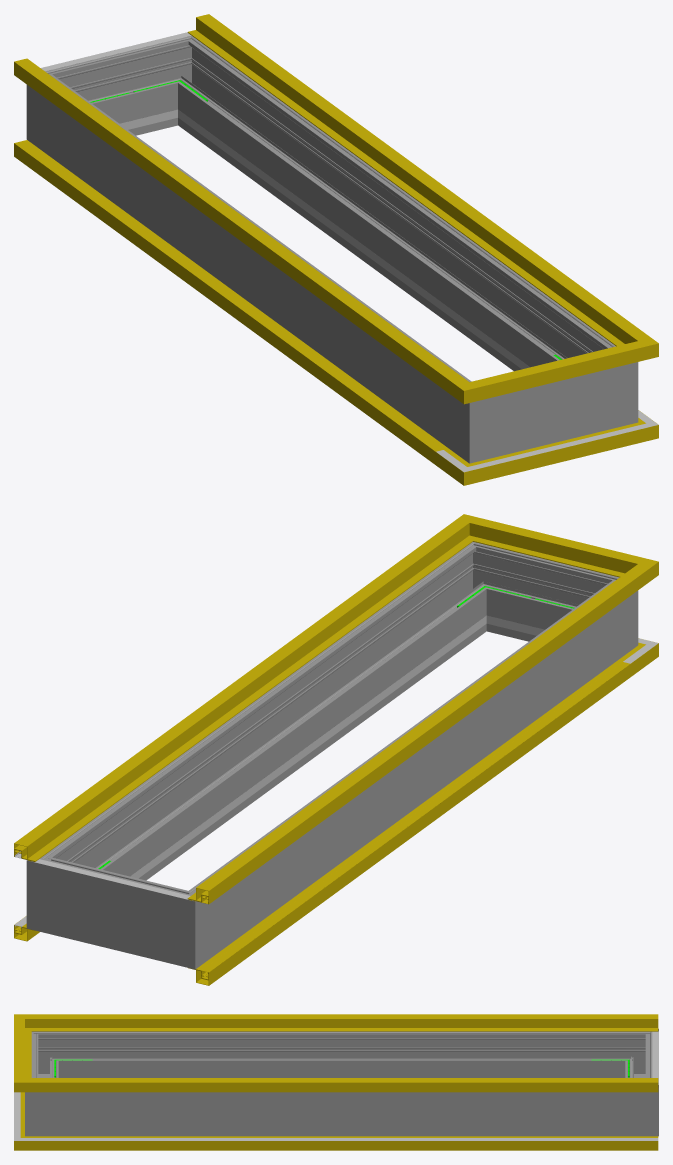
3 views of the same model, one above another, from view 1: azimuth 30°, elevation 25°; view 2: azimuth 150°, elevation 25°; view 3: azimuth 270°, elevation 25° (orthographic). The views are drawn at different scales.
Visible parts, largest first — view 1: 3DGeom-297, 3DGeom-268, 3DGeom-128, 3DGeom-118, 3DGeom-6, 3DGeom-276, 3DGeom-270, 3DGeom-298, 3DGeom-25, 3DGeom-284, 3DGeom-290, 3DGeom-237 (+8 smaller); view 2: 3DGeom-297, 3DGeom-268, 3DGeom-128, 3DGeom-118, 3DGeom-6, 3DGeom-278, 3DGeom-276, 3DGeom-298, 3DGeom-284, 3DGeom-25, 3DGeom-290, 3DGeom-237 (+5 smaller); view 3: 3DGeom-268, 3DGeom-297, 3DGeom-118, 3DGeom-128, 3DGeom-16, 3DGeom-284, 3DGeom-290, 3DGeom-18, 3DGeom-270, 3DGeom-278, 3DGeom-120, 3DGeom-125 (+6 smaller).
Part boxes in pixels (left/top/right/bottom): 3DGeom-297: left=183, top=53, right=601, bottom=371; 3DGeom-268: left=55, top=88, right=456, bottom=442; 3DGeom-128: left=187, top=14, right=630, bottom=341; 3DGeom-118: left=14, top=58, right=448, bottom=383; 3DGeom-6: left=14, top=140, right=448, bottom=464; 3DGeom-276: left=80, top=45, right=169, bottom=135; 3DGeom-270: left=441, top=371, right=518, bottom=463; 3DGeom-298: left=518, top=374, right=589, bottom=451; 3DGeom-25: left=14, top=141, right=443, bottom=451; 3DGeom-284: left=151, top=35, right=215, bottom=128; 3DGeom-290: left=589, top=336, right=638, bottom=434; 3DGeom-237: left=205, top=129, right=529, bottom=369; 3DGeom-297: left=63, top=559, right=481, bottom=880; 3DGeom-268: left=208, top=594, right=609, bottom=948; 3DGeom-128: left=14, top=534, right=456, bottom=861; 3DGeom-118: left=187, top=579, right=630, bottom=903; 3DGeom-6: left=188, top=660, right=630, bottom=985; 3DGeom-278: left=146, top=877, right=223, bottom=969; 3DGeom-276: left=75, top=865, right=155, bottom=957; 3DGeom-298: left=494, top=551, right=584, bottom=641; 3DGeom-284: left=26, top=842, right=84, bottom=940; 3DGeom-25: left=201, top=662, right=630, bottom=973; 3DGeom-290: left=449, top=542, right=513, bottom=634; 3DGeom-237: left=130, top=635, right=459, bottom=878; 3DGeom-268: left=65, top=1031, right=618, bottom=1077; 3DGeom-297: left=65, top=1092, right=618, bottom=1136; 3DGeom-118: left=54, top=1014, right=658, bottom=1031; 3DGeom-128: left=54, top=1078, right=658, bottom=1092; 3DGeom-16: left=54, top=1136, right=658, bottom=1150; 3DGeom-284: left=618, top=1070, right=658, bottom=1136; 3DGeom-290: left=25, top=1070, right=65, bottom=1136; 3DGeom-18: left=54, top=1138, right=658, bottom=1140; 3DGeom-270: left=31, top=1031, right=65, bottom=1077; 3DGeom-278: left=618, top=1028, right=658, bottom=1077; 3DGeom-120: left=14, top=1014, right=54, bottom=1040; 3DGeom-125: left=14, top=1065, right=54, bottom=1092.
Size of the model in its own units: 0.6096 by 0.2836 by 2.44.
